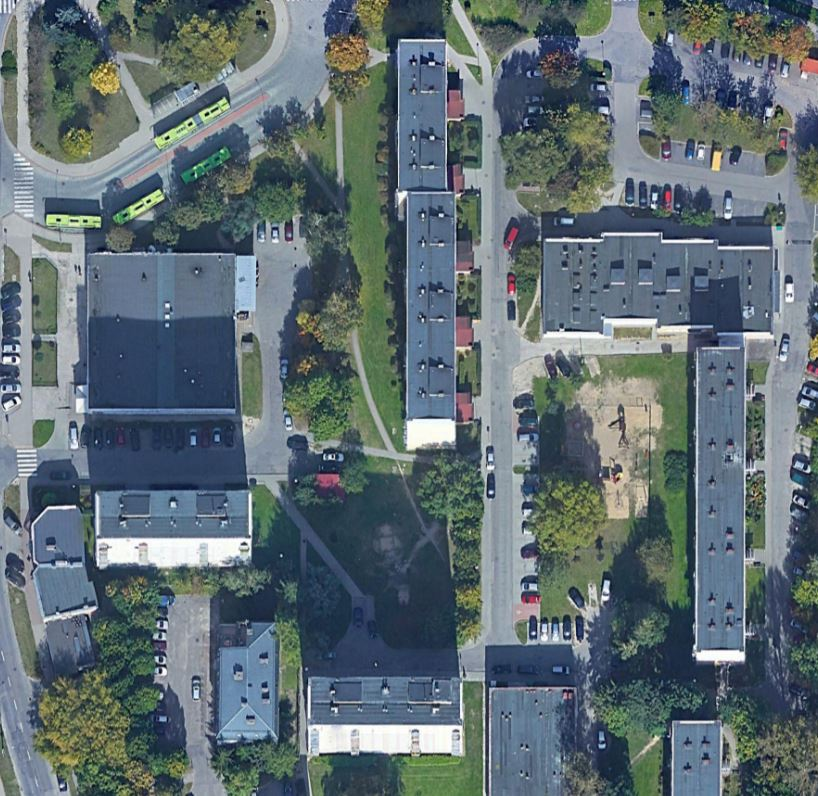block of flats: (21, 487, 117, 693)
shopping_center: (67, 234, 272, 432), (391, 29, 476, 458), (514, 221, 784, 346), (684, 338, 756, 668), (90, 477, 267, 580), (304, 670, 470, 767), (478, 680, 594, 796), (206, 606, 288, 748), (662, 719, 740, 796)
